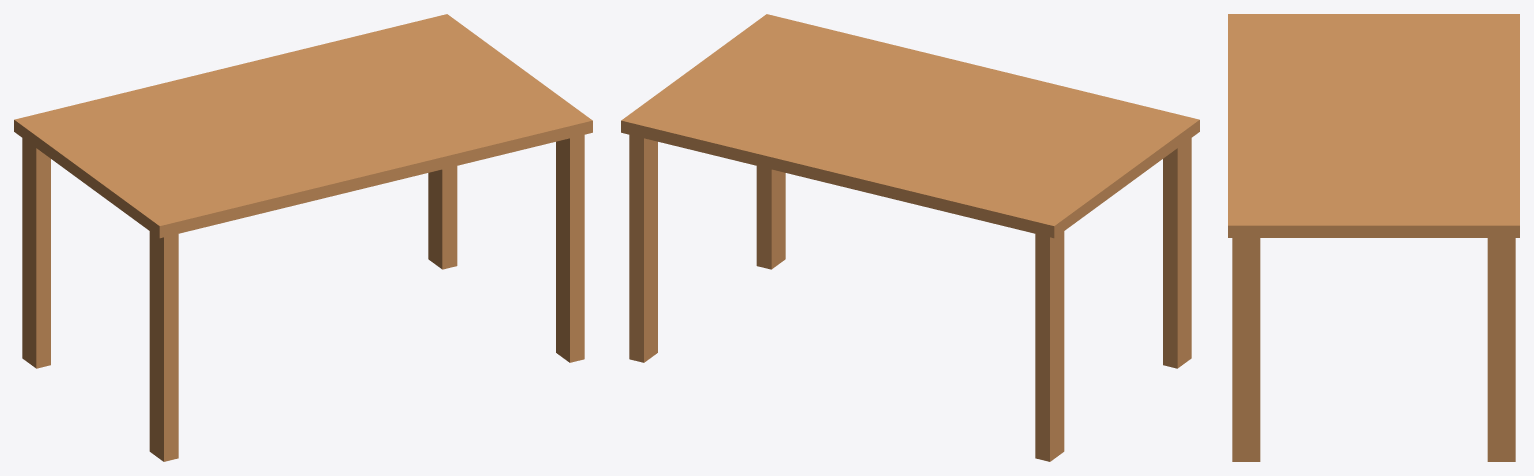
The model's file is Desktop.fbx.
3 views of the same model, side by side, from view 1: azimuth 30°, elevation 25°; view 2: azimuth 150°, elevation 25°; view 3: azimuth 270°, elevation 25° (orthographic).
Visible parts, largest first — view 1: desktop; view 2: desktop; view 3: desktop.
Boxes of the visible parts, <box> form: desktop: <box>14,14,592,461</box>; desktop: <box>621,14,1199,461</box>; desktop: <box>1228,14,1519,461</box>.
Size of the model in its own units: 2 by 1.16 by 1.05.
